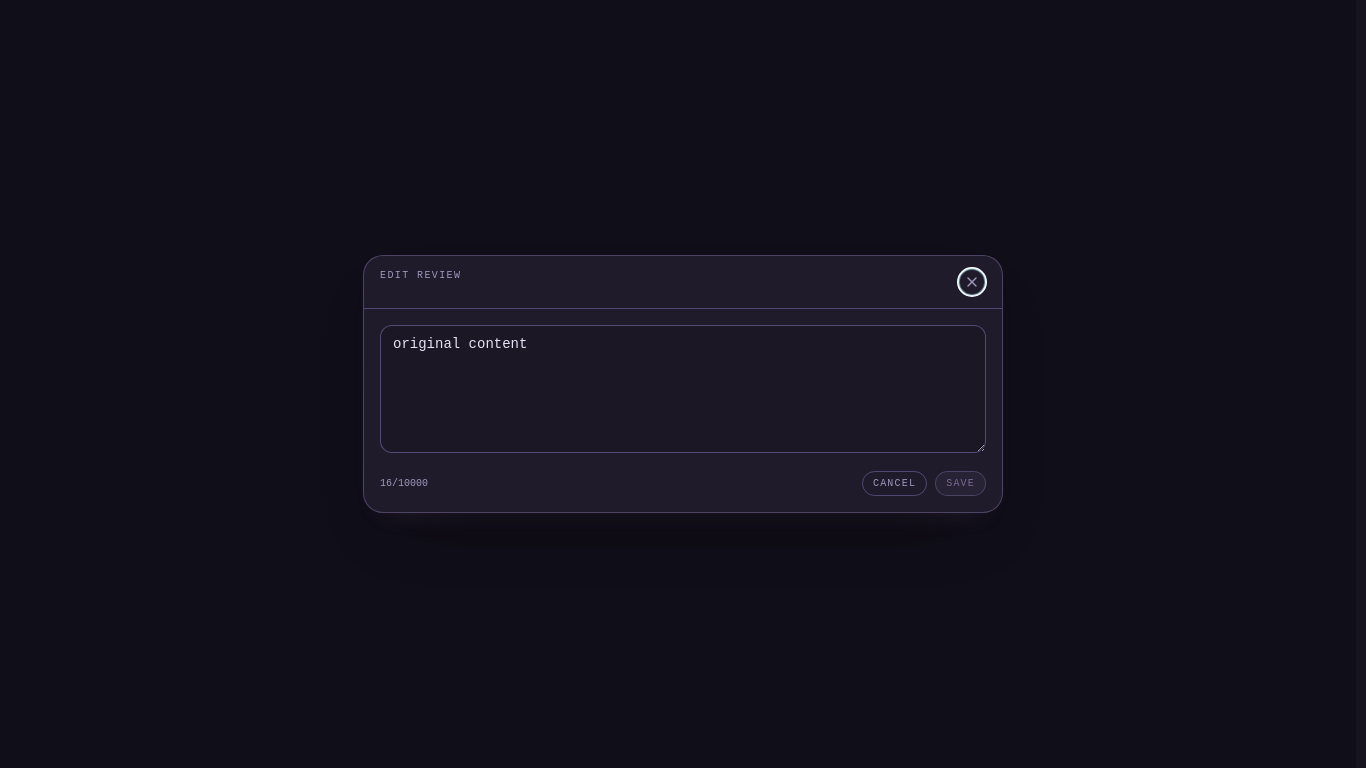
FeedReviewEditDialog › does not close and does not throw an unhandled rejection when the save fails
Replace the text in the text box with "updated content" at [683, 389], box x1=380 y1=325 x2=986 y2=453
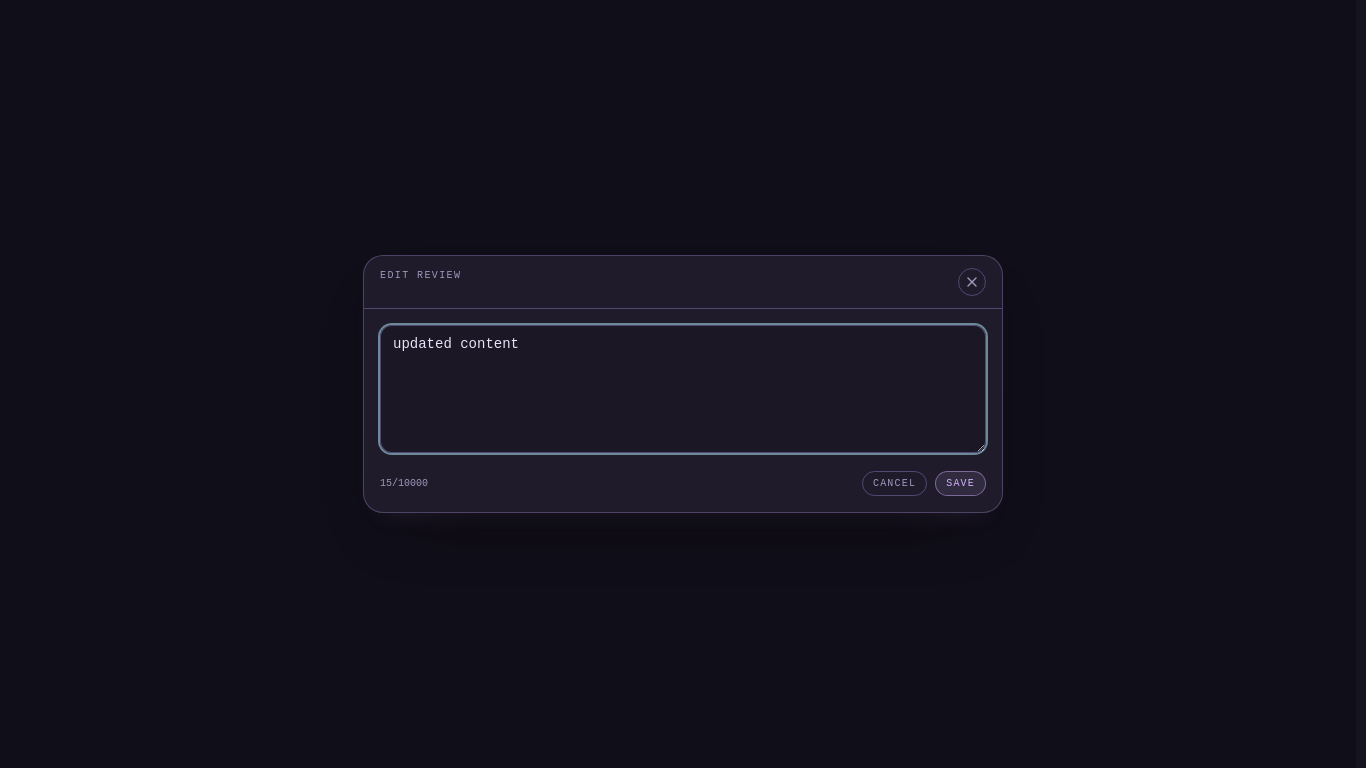
Click the button "save" at [961, 484], box x1=935 y1=471 x2=986 y2=496
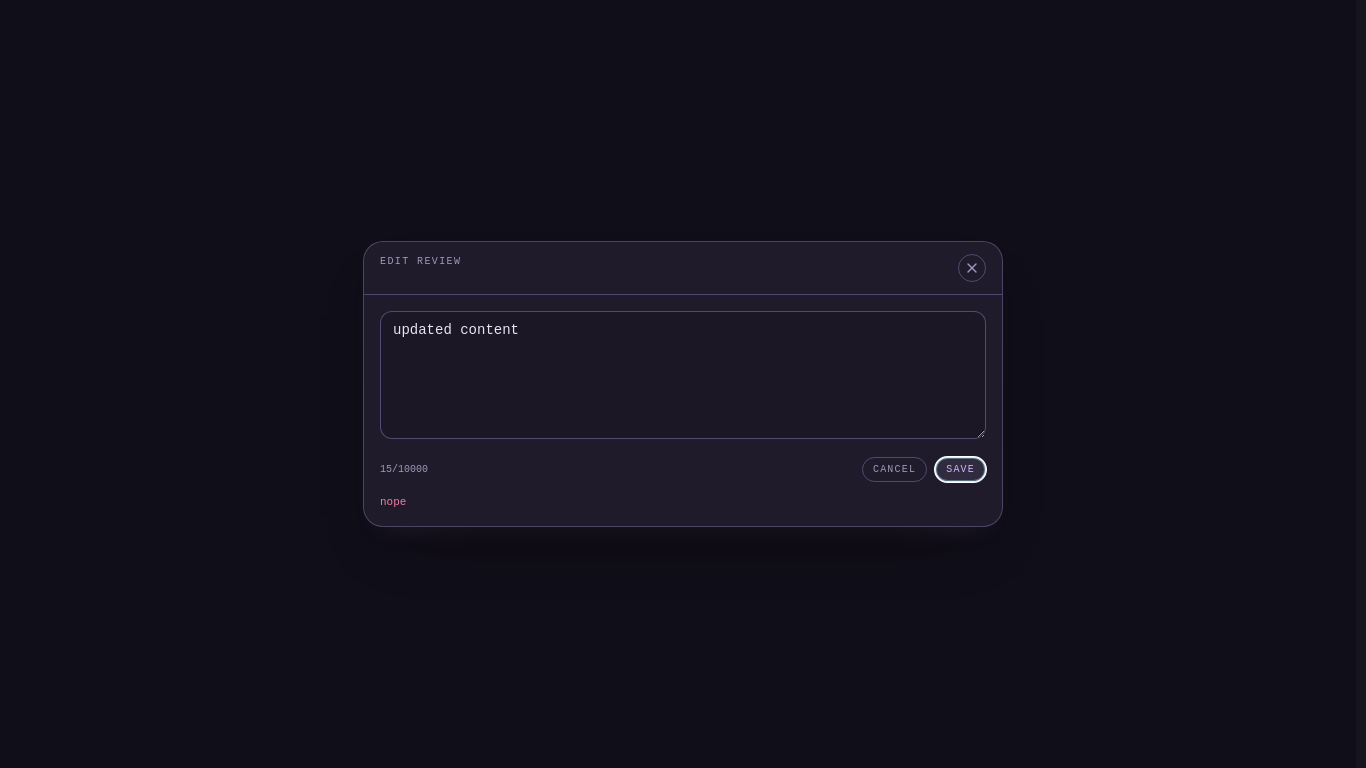
Now the text "nope" is shown, box x1=380 y1=496 x2=406 y2=508
